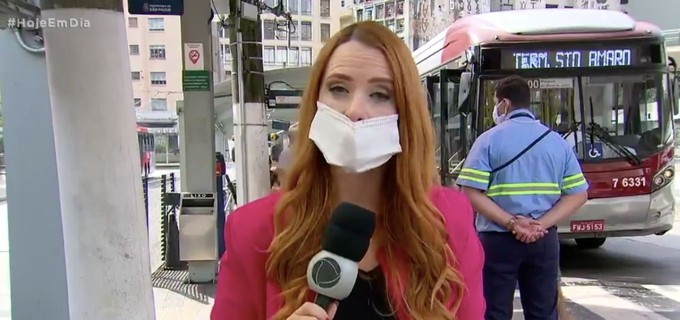mask_weared_incorrect: (307, 34, 412, 177)
